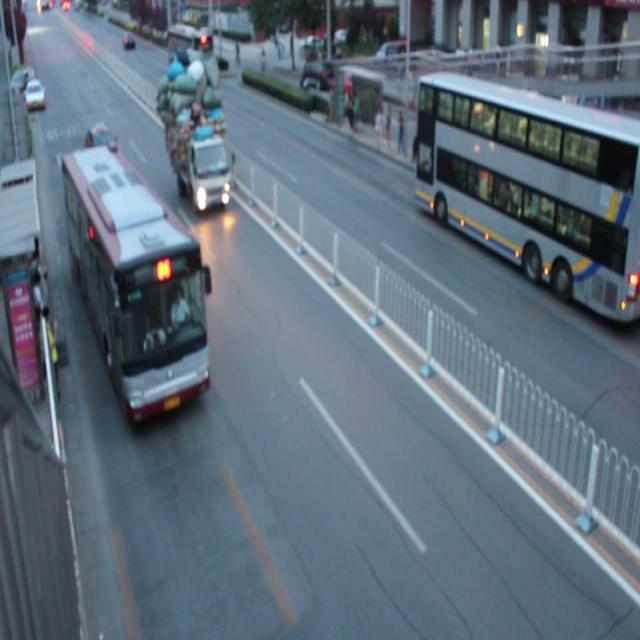bus: (164, 57, 229, 214)
car: (86, 122, 120, 164), (165, 65, 198, 101)
van: (416, 74, 640, 318), (60, 149, 206, 419)
